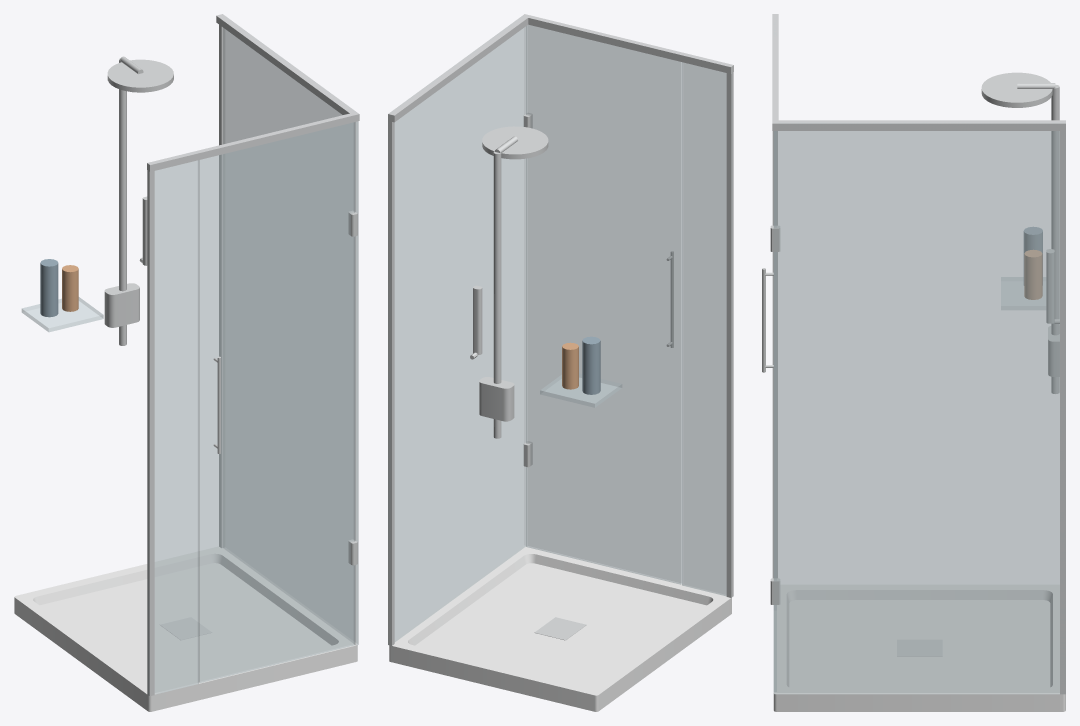
3 views of the same model, side by side, from view 1: azimuth 30°, elevation 25°; view 2: azimuth 150°, elevation 25°; view 3: azimuth 270°, elevation 25° (orthographic). The views are drawn at different scales.
Visible parts, largest first — view 1: Vách tắm đứng Rộng=800; Sâu=900; view 2: Vách tắm đứng Rộng=800; Sâu=900; view 3: Vách tắm đứng Rộng=800; Sâu=900.
Boxes of the visible parts, box(x1,y1,x2,y2) form: Vách tắm đứng Rộng=800; Sâu=900: box(14, 14, 359, 711); Vách tắm đứng Rộng=800; Sâu=900: box(388, 14, 733, 711); Vách tắm đứng Rộng=800; Sâu=900: box(762, 14, 1065, 711).
Bounding box in the file's own units: 0.8 × 2 × 0.936.
